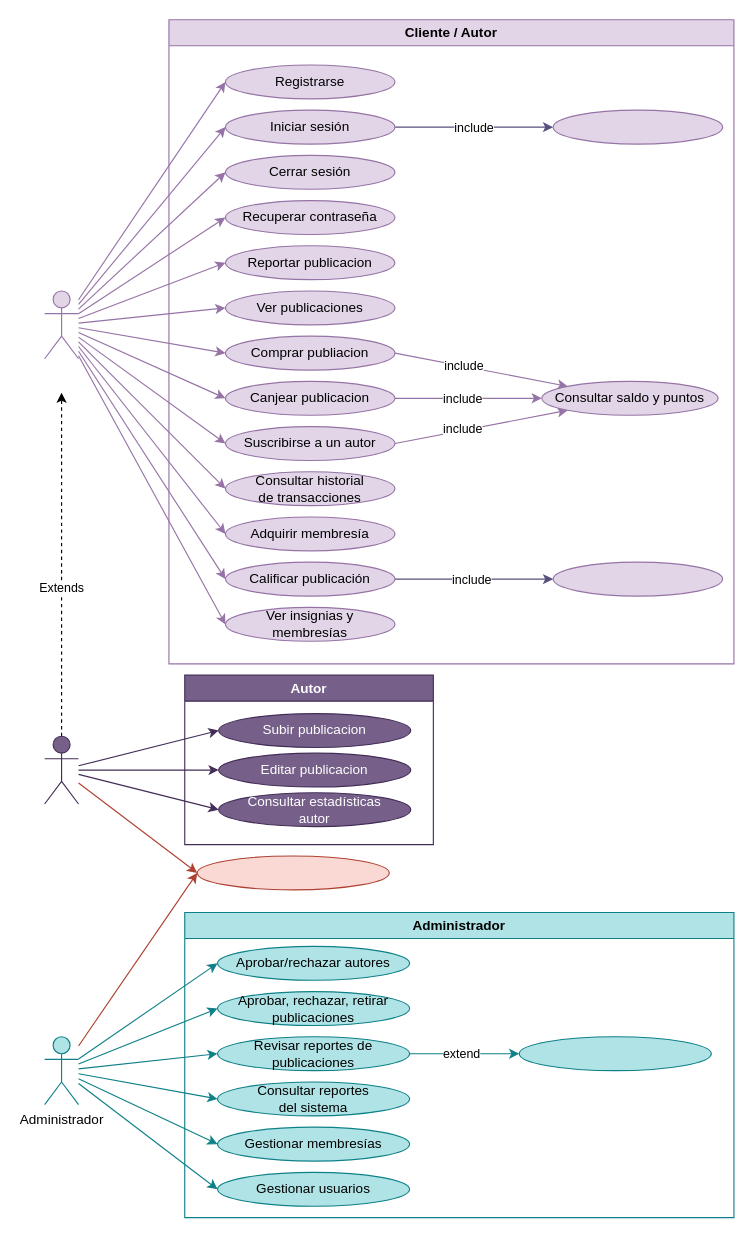
This 754x1237 diagram has some shape labels left out. Each missing label, with the box of its shape:
Cliente: (44, 290, 79, 359)
Dar de baja una publicacion: (518, 1036, 711, 1071)
Escribir reseña: (552, 561, 723, 596)
Recibir notificaciones: (196, 855, 389, 890)
Verificar codigo 2FA: (552, 109, 723, 144)
